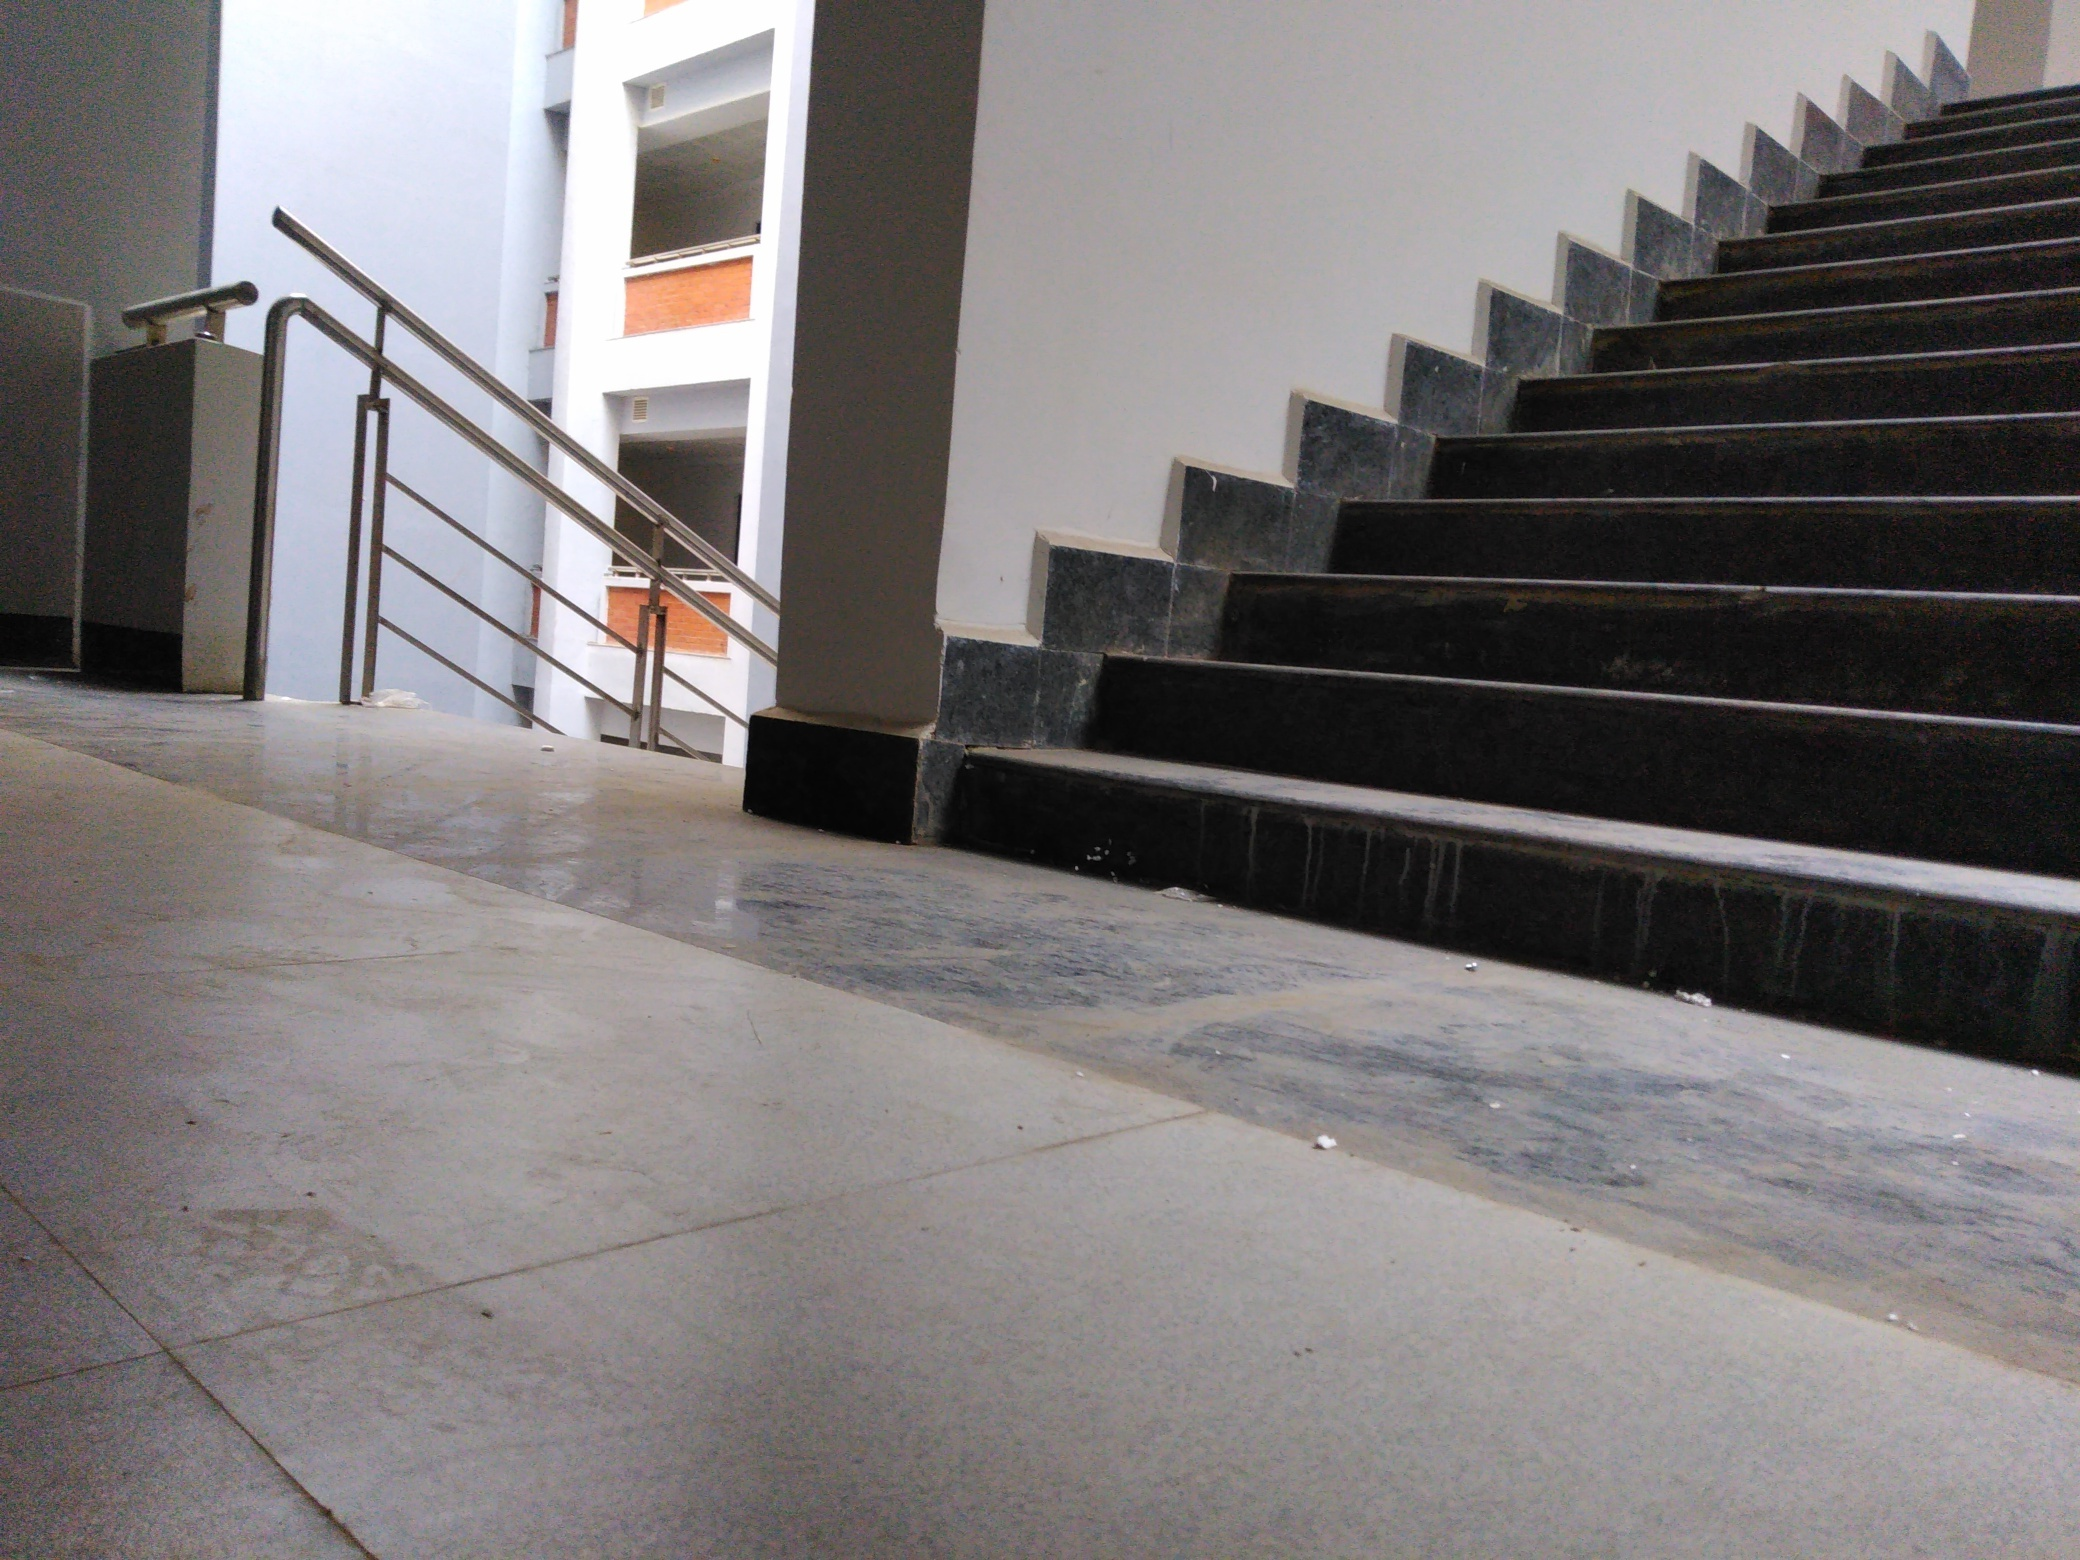stairs_up: (948, 95, 2060, 936)
